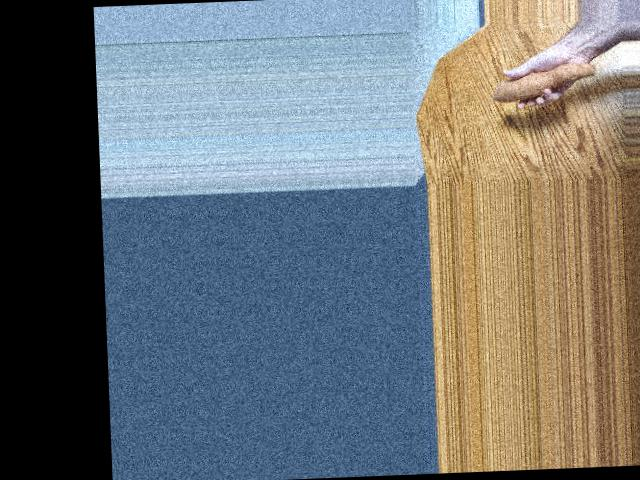sweet_potato: (489, 61, 594, 103)
